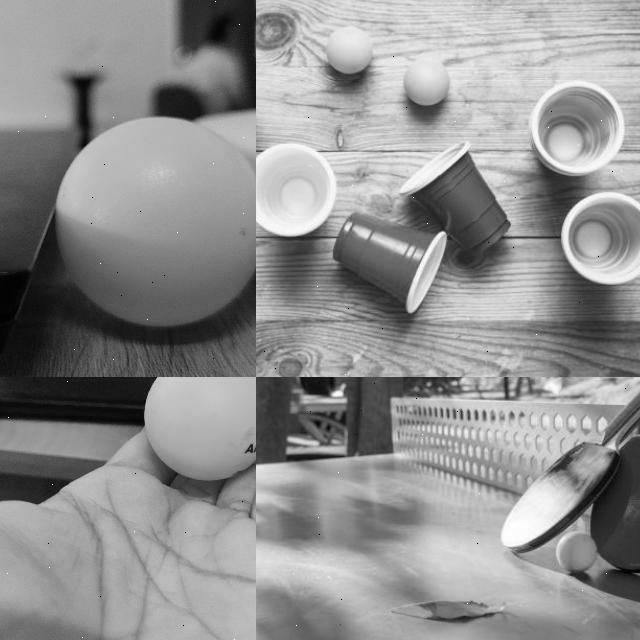ping-pong-ball: (55, 116, 255, 329), (141, 377, 255, 480), (327, 26, 371, 72), (404, 60, 448, 104), (558, 533, 596, 575)
